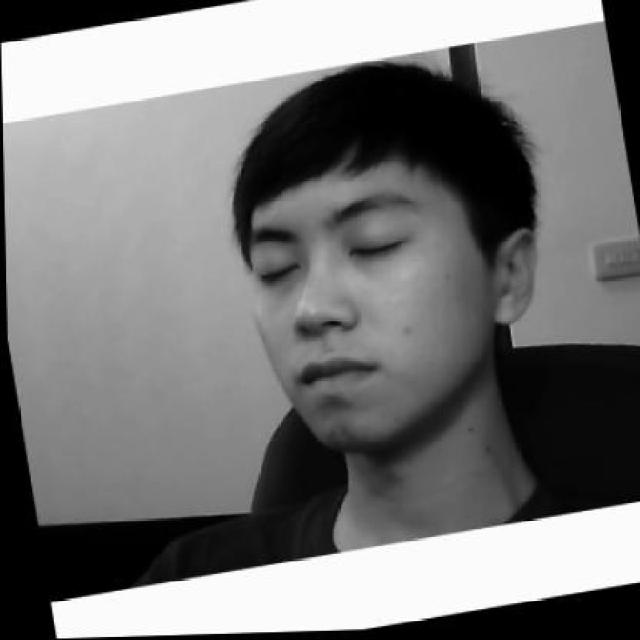inattentif: (212, 40, 560, 468)
